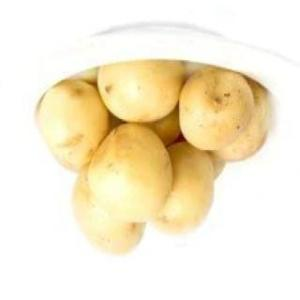potato: (89, 122, 175, 224), (72, 166, 148, 254), (150, 138, 209, 238), (36, 88, 106, 170), (180, 69, 250, 150), (99, 62, 186, 126), (205, 80, 267, 162), (158, 111, 184, 147), (207, 155, 225, 179)
